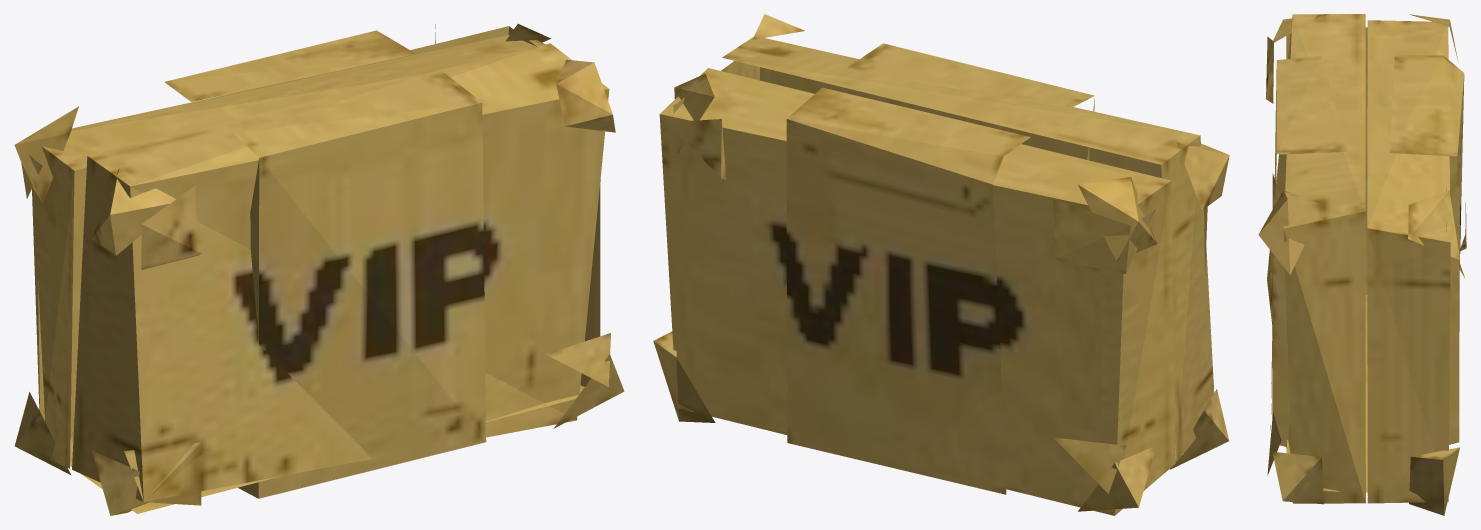
File: prop.briefcase_gold.lod.glb
3 renders of one model, left to right at view 1: azimuth 30°, elevation 25°; view 2: azimuth 150°, elevation 25°; view 3: azimuth 270°, elevation 25°, orthographic. The views are drawn at different scales.
Parts seen in each view (by area): view 1: body; view 2: body; view 3: body.
Boxes of the visible parts, x1,y1,x2,y2 form: body: [14, 24, 624, 515]; body: [653, 14, 1229, 515]; body: [1258, 14, 1466, 515].
Size of the model in its own units: 0.32 by 0.2158 by 0.1285.
Materials: 1 (1 with a texture image).
